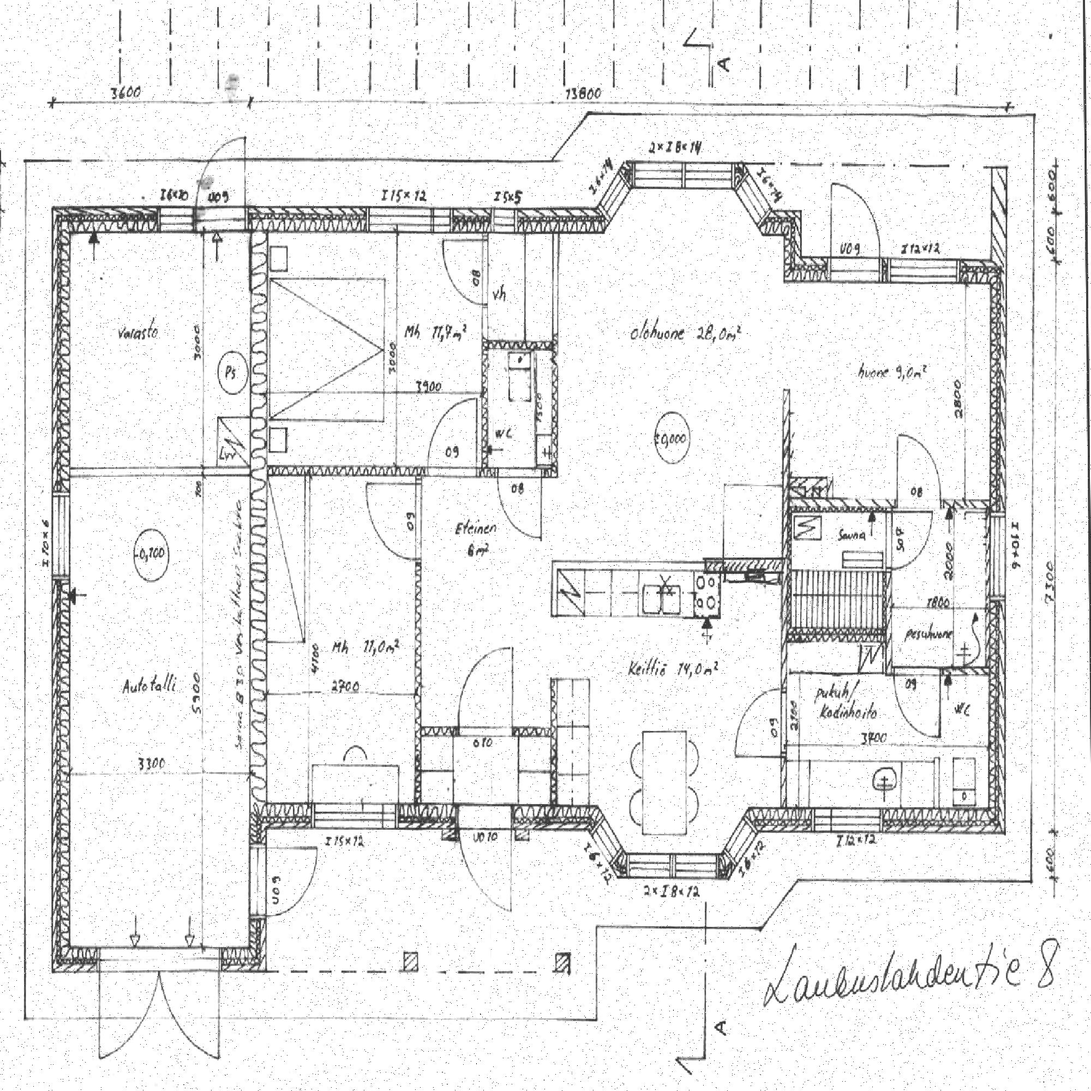wall: (52, 207, 604, 233), (52, 206, 70, 971), (249, 207, 267, 805), (249, 805, 597, 830), (749, 808, 1007, 833), (781, 257, 1007, 281), (52, 948, 266, 971), (990, 256, 1007, 500), (986, 500, 1007, 675), (624, 162, 742, 187), (618, 853, 729, 879), (989, 675, 1007, 833), (249, 805, 266, 971), (588, 805, 626, 879), (721, 808, 759, 879), (734, 162, 770, 235), (597, 163, 632, 233), (415, 467, 421, 830), (52, 468, 267, 477), (991, 162, 1007, 282), (481, 207, 488, 477), (781, 281, 790, 477), (782, 477, 833, 511), (552, 207, 558, 477), (781, 629, 892, 643), (250, 467, 421, 476), (552, 561, 720, 570), (415, 467, 558, 477), (782, 210, 801, 281), (415, 727, 557, 736), (892, 498, 1007, 508), (781, 642, 787, 833), (886, 666, 1007, 675), (550, 679, 557, 830), (762, 210, 801, 235), (782, 477, 791, 570), (781, 561, 791, 642), (833, 498, 892, 511), (481, 340, 558, 349), (883, 571, 892, 643), (886, 498, 892, 571), (552, 561, 557, 617), (886, 643, 892, 675), (442, 830, 456, 840), (515, 830, 529, 840)
